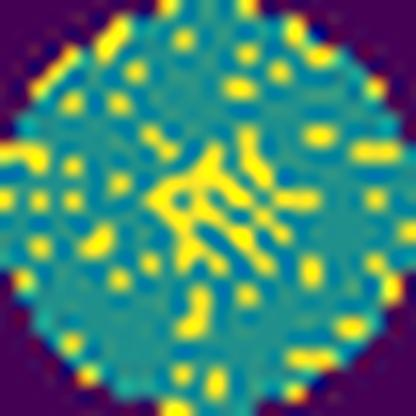Center: (141, 129, 319, 277)
